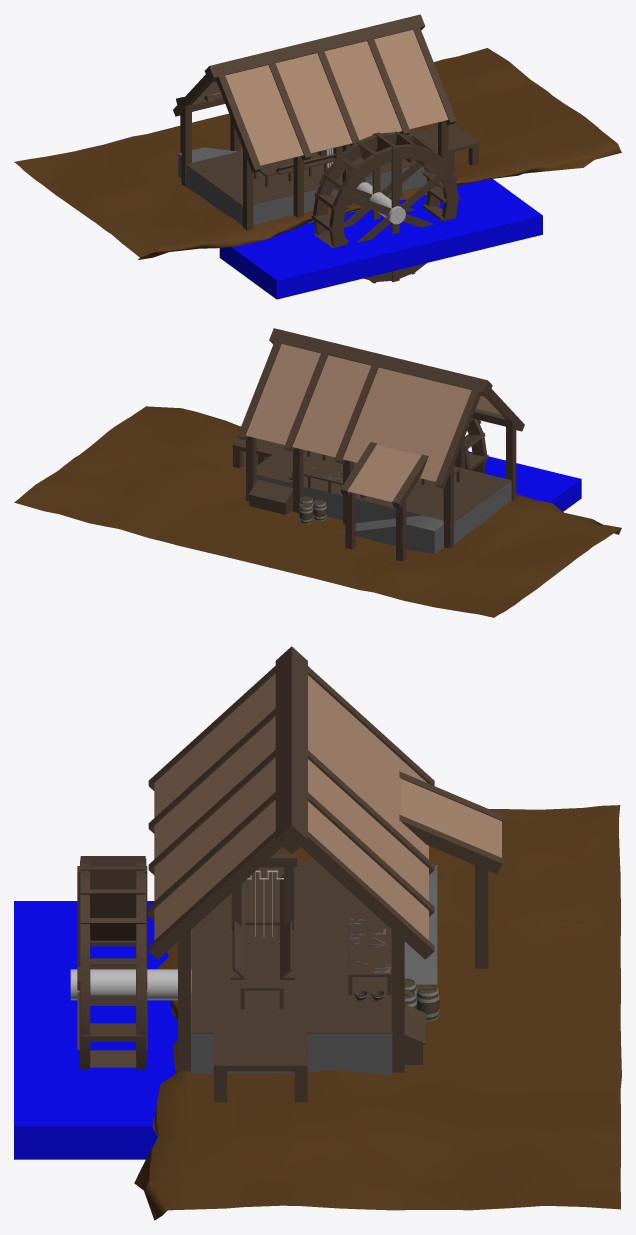
Rendered from saw_mill.glb.
3 renders of one model, top to bottom at view 1: azimuth 30°, elevation 25°; view 2: azimuth 150°, elevation 25°; view 3: azimuth 270°, elevation 25°, orthographic. The views are drawn at different scales.
Parts seen in each view (by area): view 1: pasted__pasted__Floor, pCube78, pCube64, polySurface110, pCube83, pCube32, polySurface108, pCube31, pCube80, pCube25, pCube57, pCube27 (+8 smaller); view 2: pasted__pasted__Floor, pCube77, pCube83, pCube32, polySurface108, pCube64, pCube79, polySurface109, pCube85, pCube30, polySurface110, pCube24 (+13 smaller); view 3: pasted__pasted__Floor, pCube64, pCube83, pCube78, pCube77, polySurface110, pCube32, polySurface108, pCube80, pCube79, pCube25, pCube24 (+19 smaller).
Boxes of the visible parts, x1=… form: pasted__pasted__Floor: x1=14, y1=48, x2=621, y2=259; pCube78: x1=225, y1=29, x2=448, y2=165; pCube64: x1=219, y1=179, x2=542, y2=299; polySurface110: x1=311, y1=131, x2=459, y2=283; pCube83: x1=186, y1=130, x2=437, y2=205; pCube32: x1=204, y1=14, x2=425, y2=82; polySurface108: x1=186, y1=163, x2=427, y2=225; pCube31: x1=216, y1=75, x2=261, y2=172; pCube80: x1=412, y1=124, x2=479, y2=153; pCube25: x1=413, y1=27, x2=456, y2=125; pCube57: x1=268, y1=63, x2=311, y2=160; pCube27: x1=367, y1=39, x2=410, y2=135; pasted__pasted__Floor: x1=14, y1=406, x2=621, y2=617; pCube77: x1=245, y1=344, x2=471, y2=481; pCube83: x1=256, y1=447, x2=511, y2=522; pCube32: x1=269, y1=328, x2=492, y2=397; polySurface108: x1=256, y1=475, x2=511, y2=544; pCube64: x1=468, y1=451, x2=581, y2=511; pCube79: x1=347, y1=445, x2=420, y2=502; polySurface109: x1=342, y1=515, x2=443, y2=553; pCube85: x1=248, y1=479, x2=292, y2=514; pCube30: x1=435, y1=390, x2=481, y2=488; polySurface110: x1=454, y1=418, x2=488, y2=473; pCube24: x1=237, y1=341, x2=281, y2=440; pasted__pasted__Floor: x1=134, y1=805, x2=621, y2=1220; pCube64: x1=14, y1=901, x2=177, y2=1159; pCube83: x1=191, y1=861, x2=391, y2=1033; pCube78: x1=154, y1=674, x2=275, y2=940; pCube77: x1=308, y1=675, x2=428, y2=940; polySurface110: x1=77, y1=856, x2=147, y2=1068; pCube32: x1=275, y1=646, x2=307, y2=854; polySurface108: x1=191, y1=929, x2=392, y2=1075; pCube80: x1=213, y1=1031, x2=307, y2=1071; pCube79: x1=401, y1=779, x2=501, y2=857; pCube25: x1=148, y1=831, x2=282, y2=959; pCube24: x1=300, y1=831, x2=434, y2=959.
Bounding box in the file's own units: 25.9 × 10.52 × 16.55.
